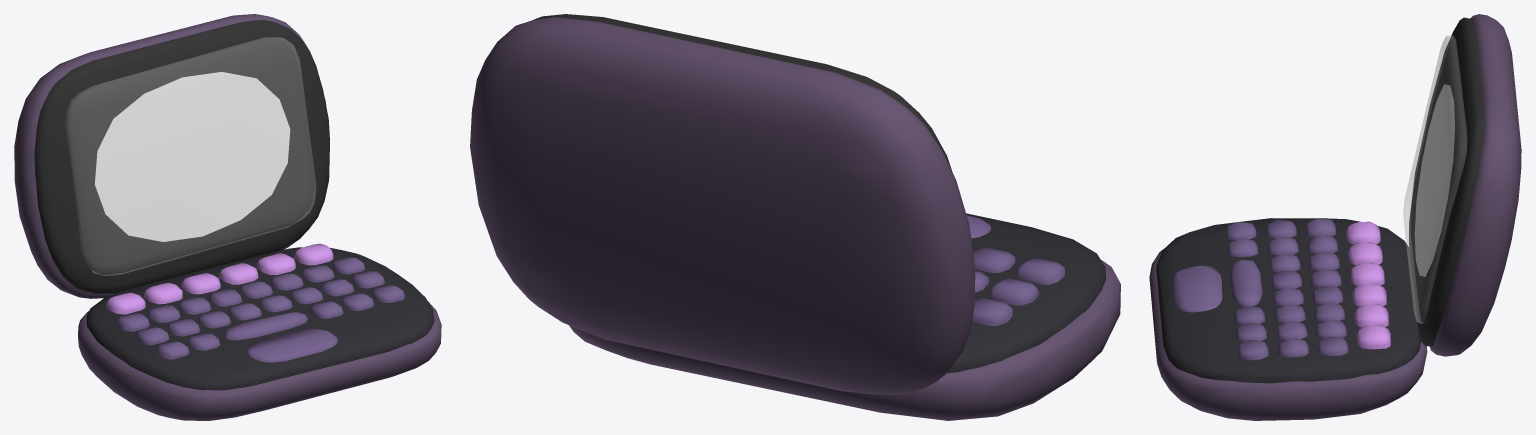
File: computer.glb
The picture shows the model from 3 angles, left to right: view 1: azimuth 30°, elevation 25°; view 2: azimuth 150°, elevation 25°; view 3: azimuth 270°, elevation 25°; orthographic projection. The views are drawn at different scales.
Visible parts, largest first — view 1: computer; view 2: computer; view 3: computer.
Boxes of the visible parts, left/top/right/bottom form: computer: left=14, top=14, right=441, bottom=420; computer: left=470, top=14, right=1120, bottom=420; computer: left=1149, top=14, right=1521, bottom=420.
Size of what is drawn, in the model's own units: 1.06 by 0.8571 by 1.
Materials: 7 (1 with a texture image).
